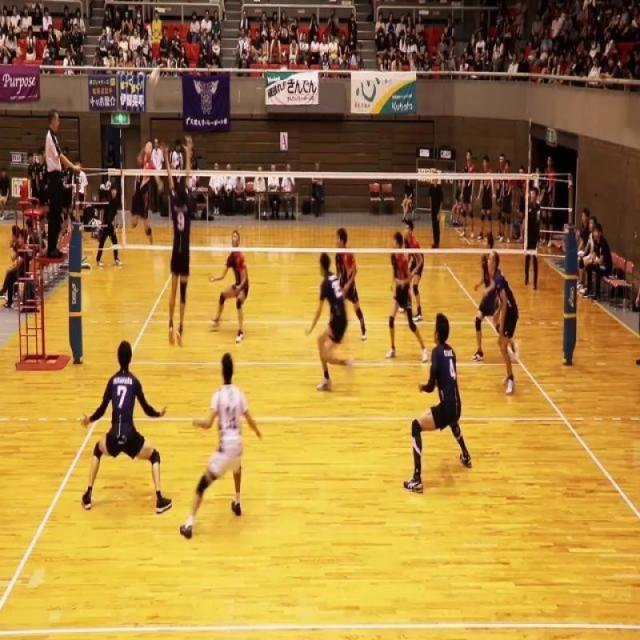volleyball: (149, 68, 161, 87)
